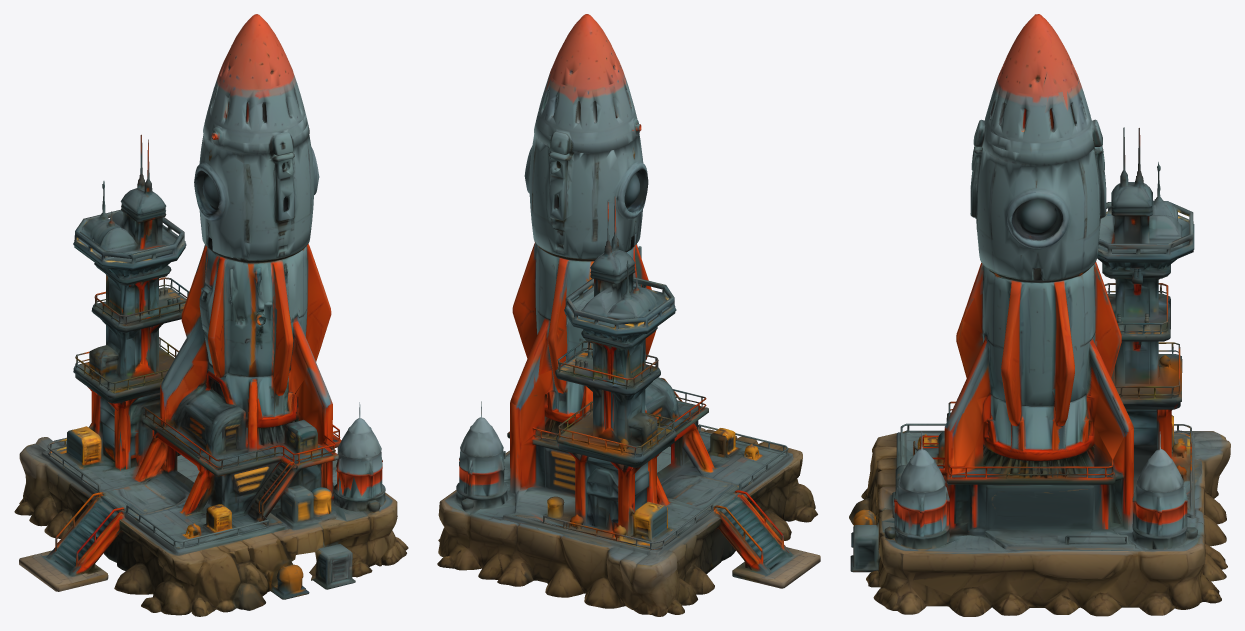
Rendered from Rocket_Base_MML.glb.
3 views of the same model, side by side, from view 1: azimuth 30°, elevation 25°; view 2: azimuth 150°, elevation 25°; view 3: azimuth 270°, elevation 25° (orthographic). The views are drawn at different scales.
Parts seen in each view (by area): view 1: material; view 2: material; view 3: material.
Boxes of the visible parts, <box> form: material: <box>14,14,408,616</box>; material: <box>437,14,820,616</box>; material: <box>849,14,1230,616</box>.
Bounding box in the file's own units: 32.09 × 50.02 × 31.3.
1 material, 1 textured.
